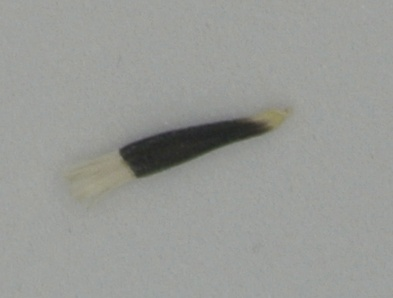เมล็ดดีติดกัน: (63, 102, 298, 208)
